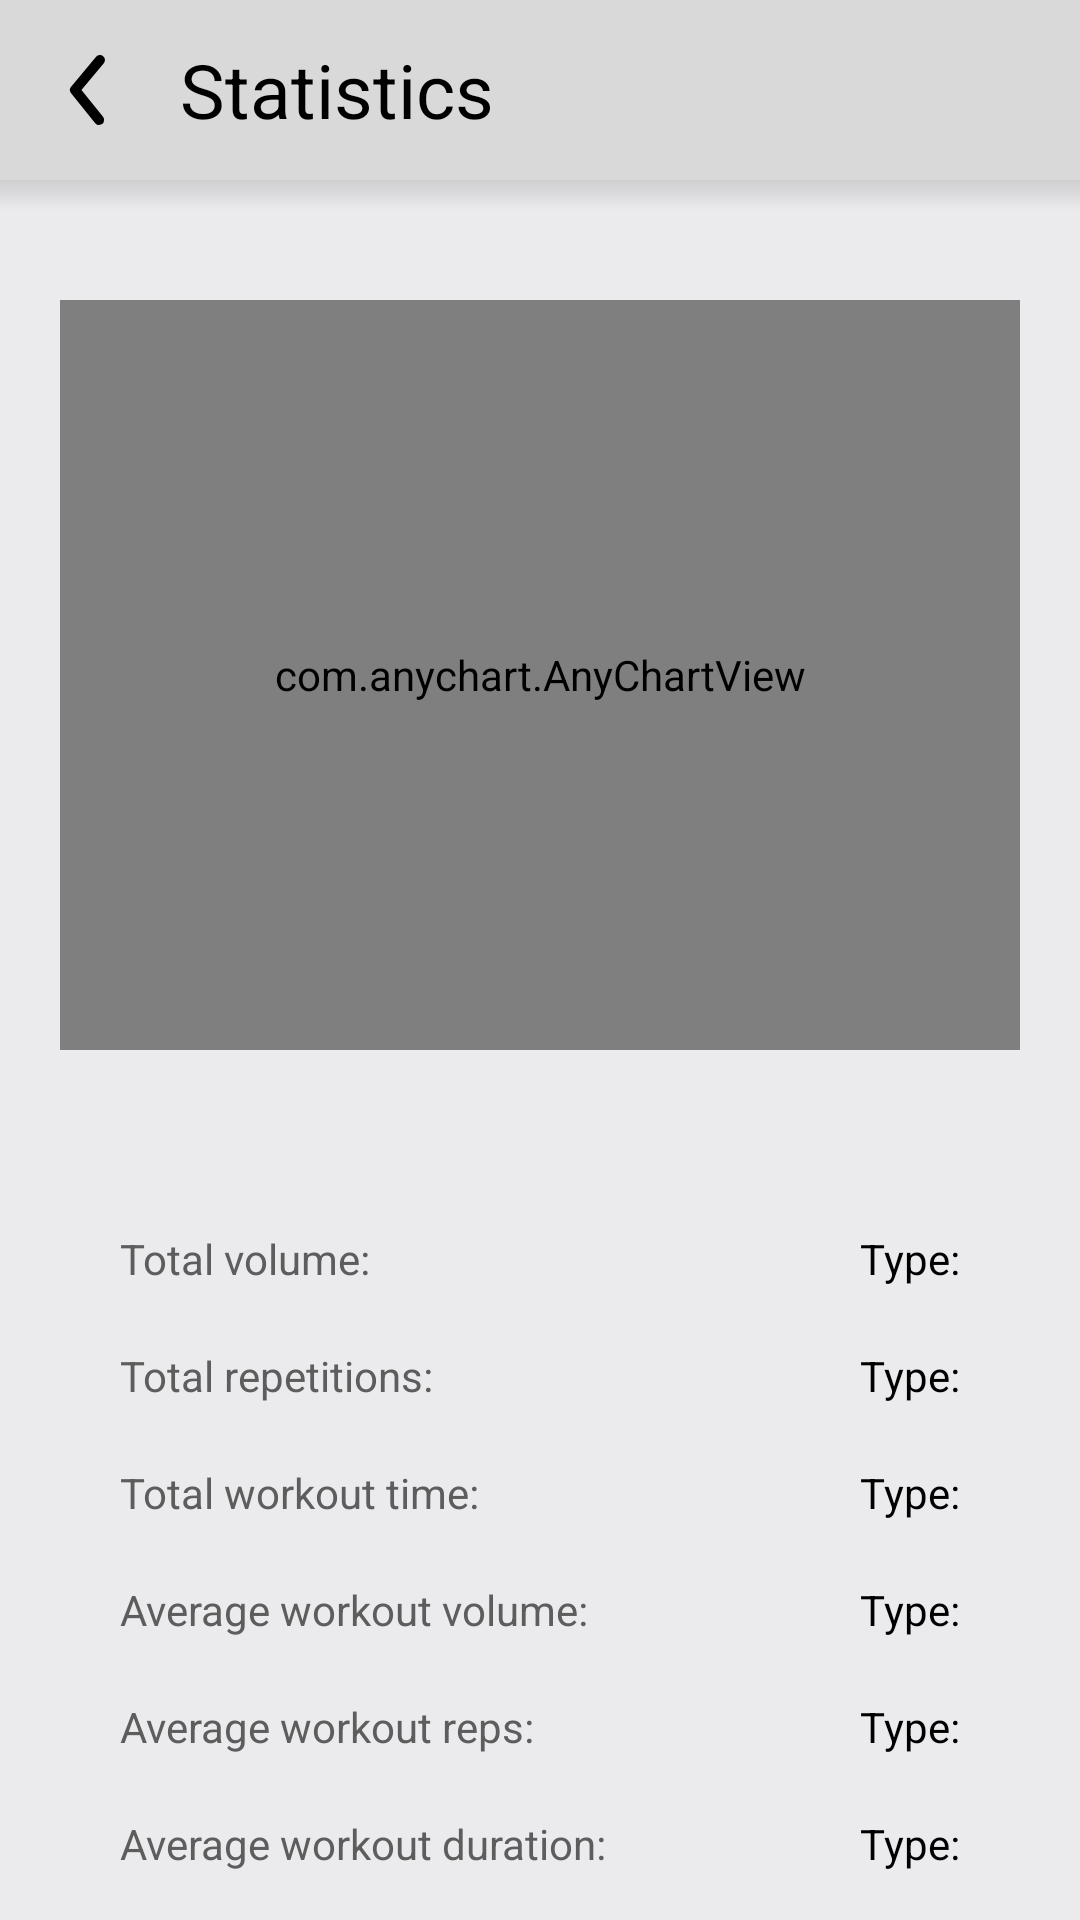

Named icons in this screenshot (1080 × 1920) and their centers, (x,y):
back arrow: (87,90)
